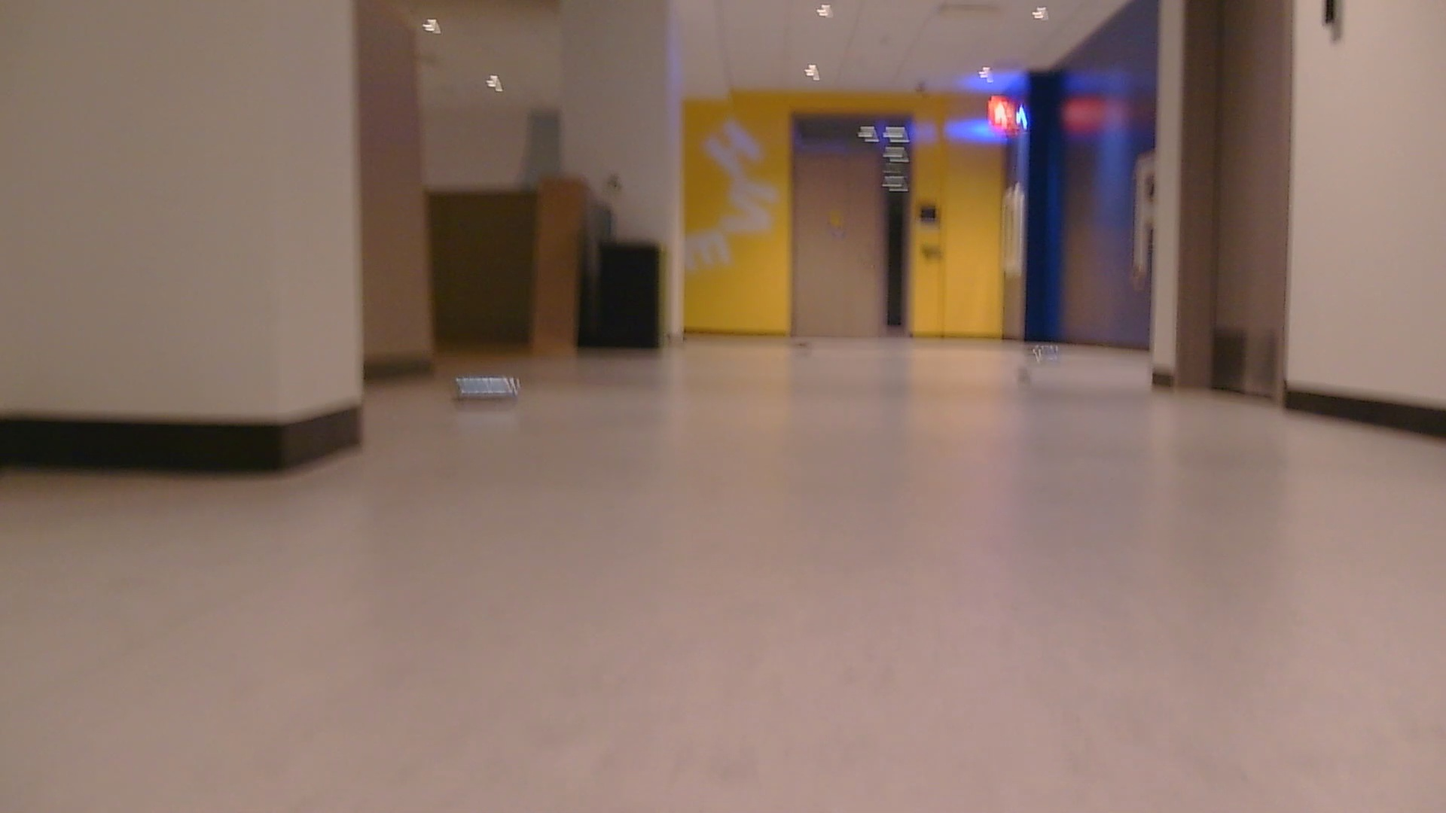carton: (444, 373, 530, 408), (1027, 342, 1062, 357), (1013, 367, 1039, 381), (794, 337, 818, 352)
